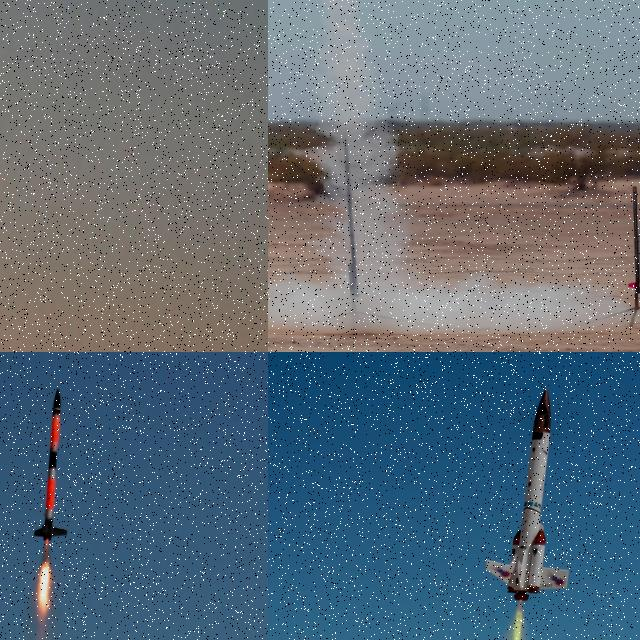Rocket: (485, 387, 572, 598), (33, 387, 69, 541)
